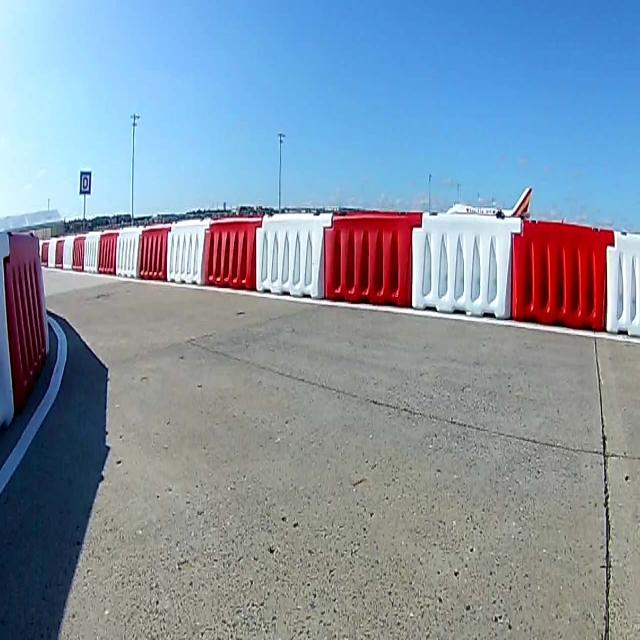durak: (79, 170, 91, 194)
